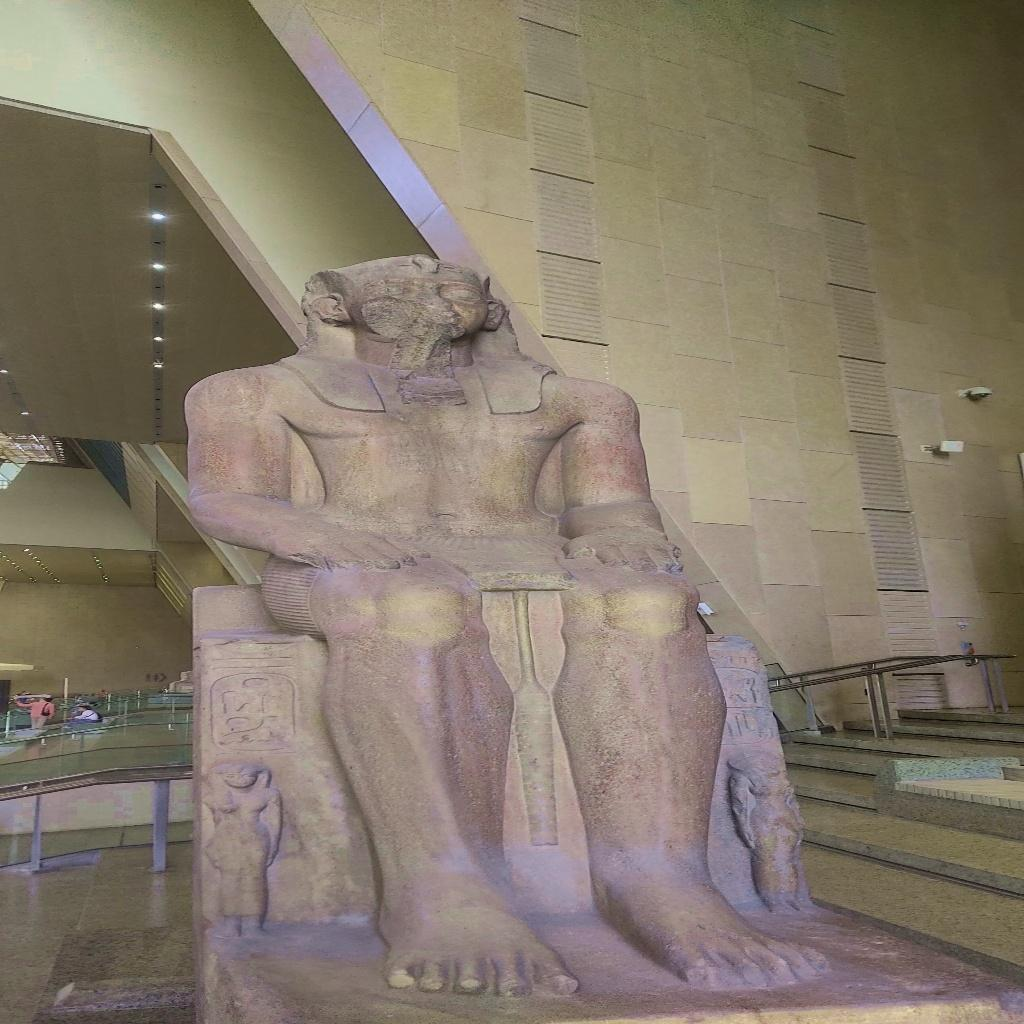Colossal Statue of Middle Kingdom King: (176, 251, 834, 999)
